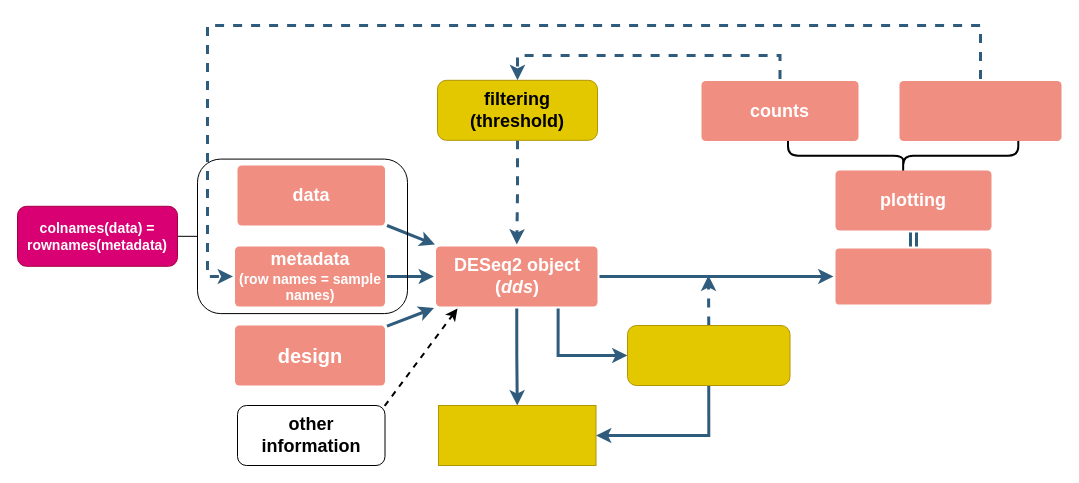
This 1079x483 diagram has some shape labels left out. The shapes that lost their labels are listed below. From the top down, each one's box as (x1, y1, x2, y2) in pixels, then its label:
(899, 81, 1061, 141): samples: correlate/ group
(835, 248, 991, 304): d ata exploration (QC)
(626, 324, 790, 386): data transformation
(438, 404, 596, 466): normalization & analysis
